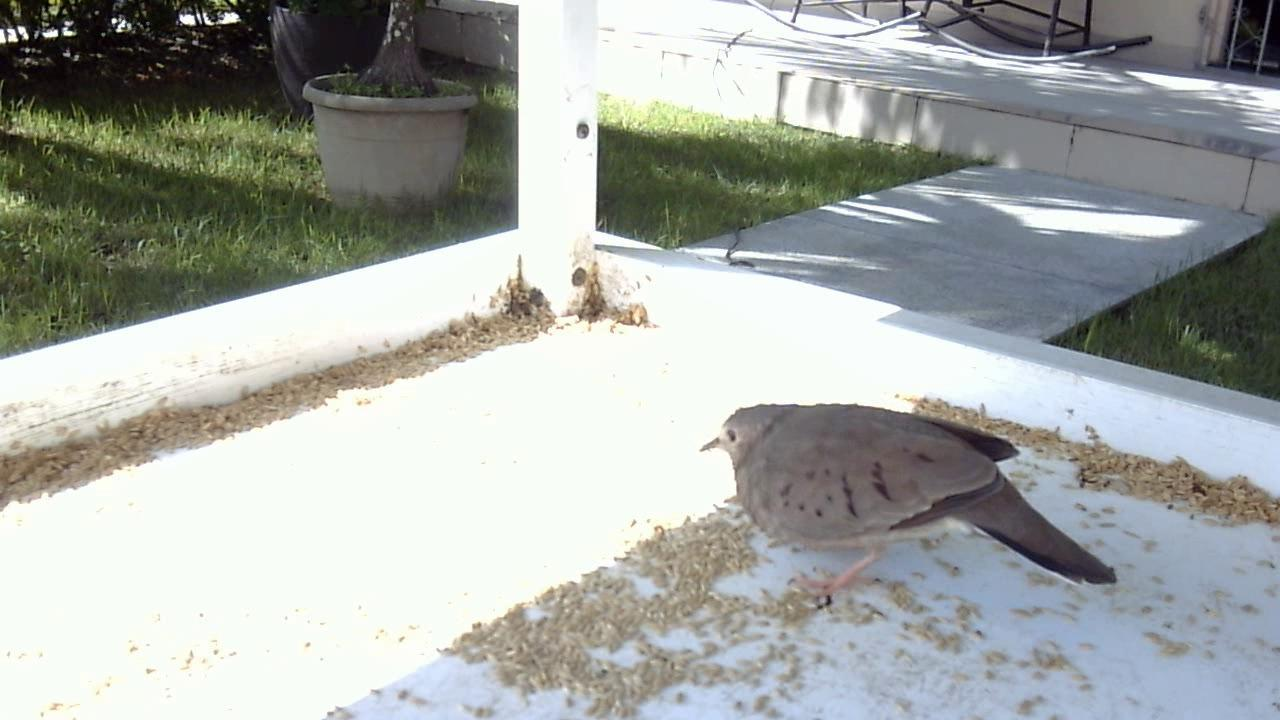rolinha: (688, 382, 1131, 630)
